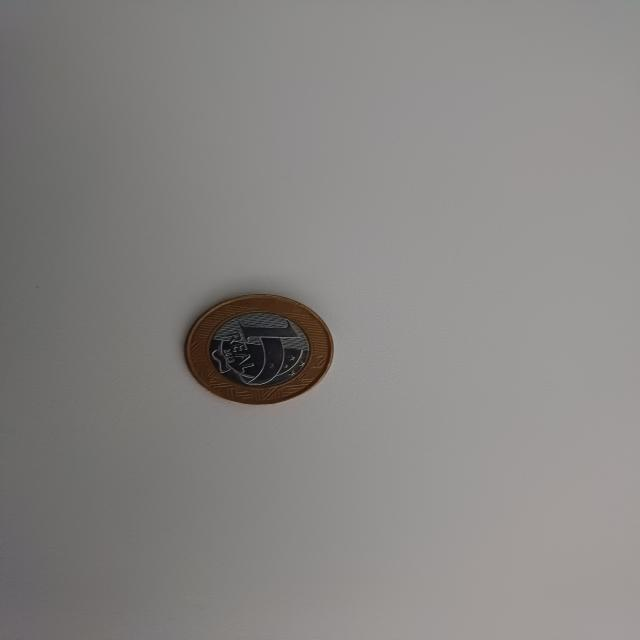1 real: (178, 286, 338, 408)
